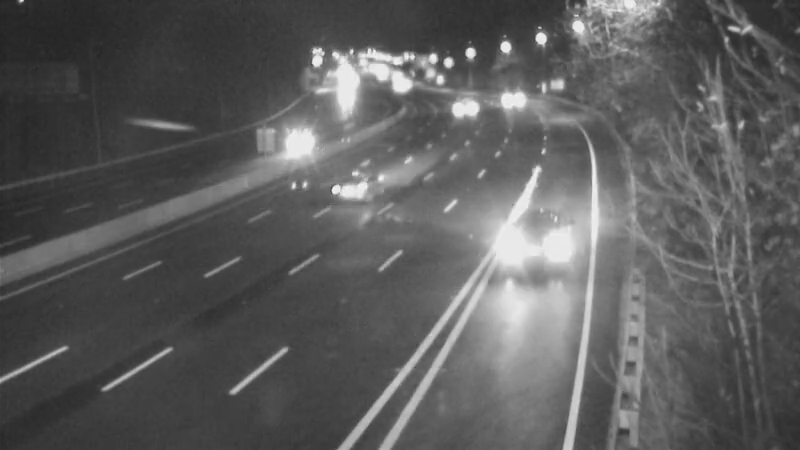vehicle: (315, 151, 395, 231), (494, 208, 574, 288), (483, 76, 533, 126), (438, 81, 488, 131), (275, 119, 325, 169)
